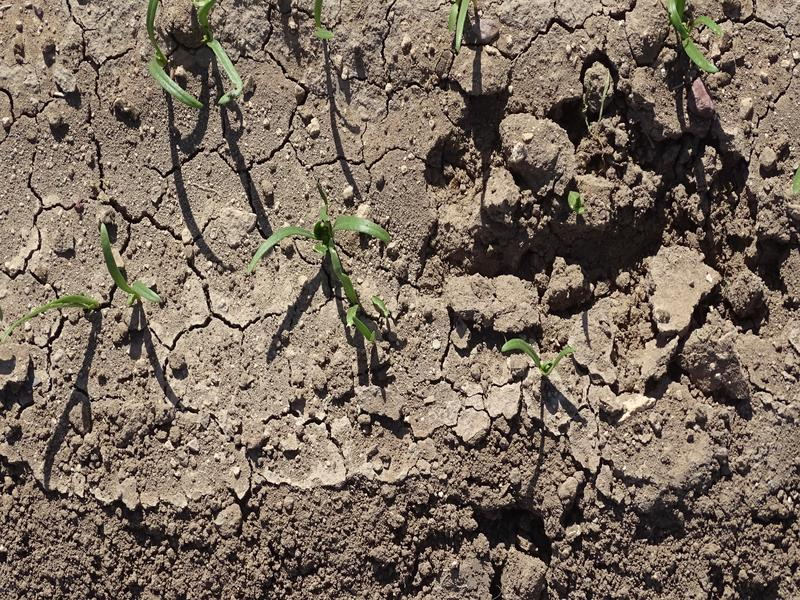Espinaca: (140, 2, 254, 103), (244, 210, 392, 280), (93, 226, 160, 310), (659, 3, 721, 70), (504, 329, 573, 376), (6, 298, 105, 324), (343, 294, 393, 342), (452, 1, 474, 48)
